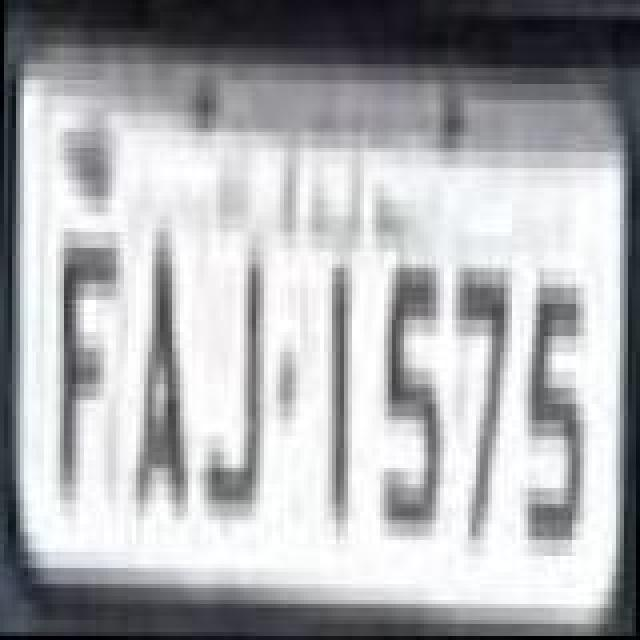1: (322, 266, 354, 538)
5: (380, 260, 448, 548), (520, 268, 588, 556)
7: (450, 260, 514, 548)
A: (130, 234, 194, 538)
F: (56, 238, 120, 474)
J: (204, 256, 264, 528)
